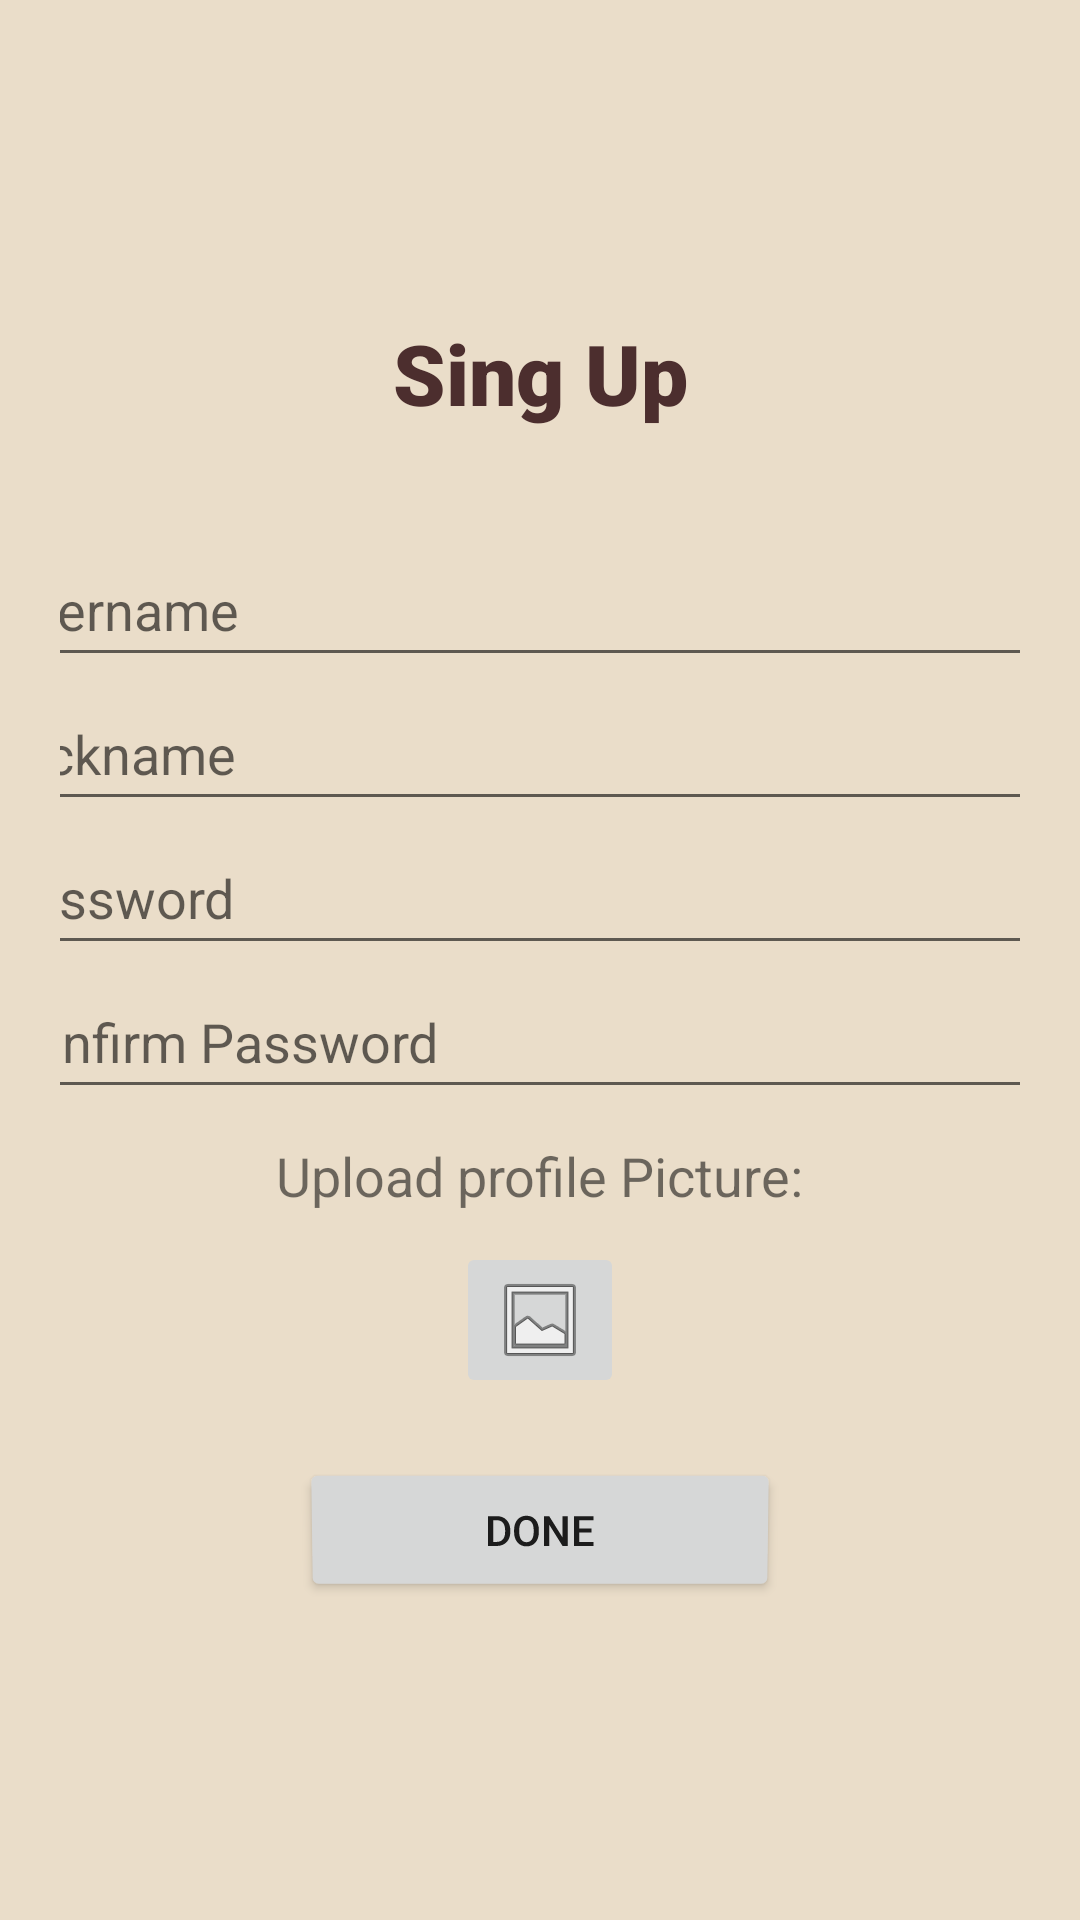

Screen size 1080px x 1920px. Icon name, then its center in pixels as point (x, y):
gallery: point (540, 1320)
